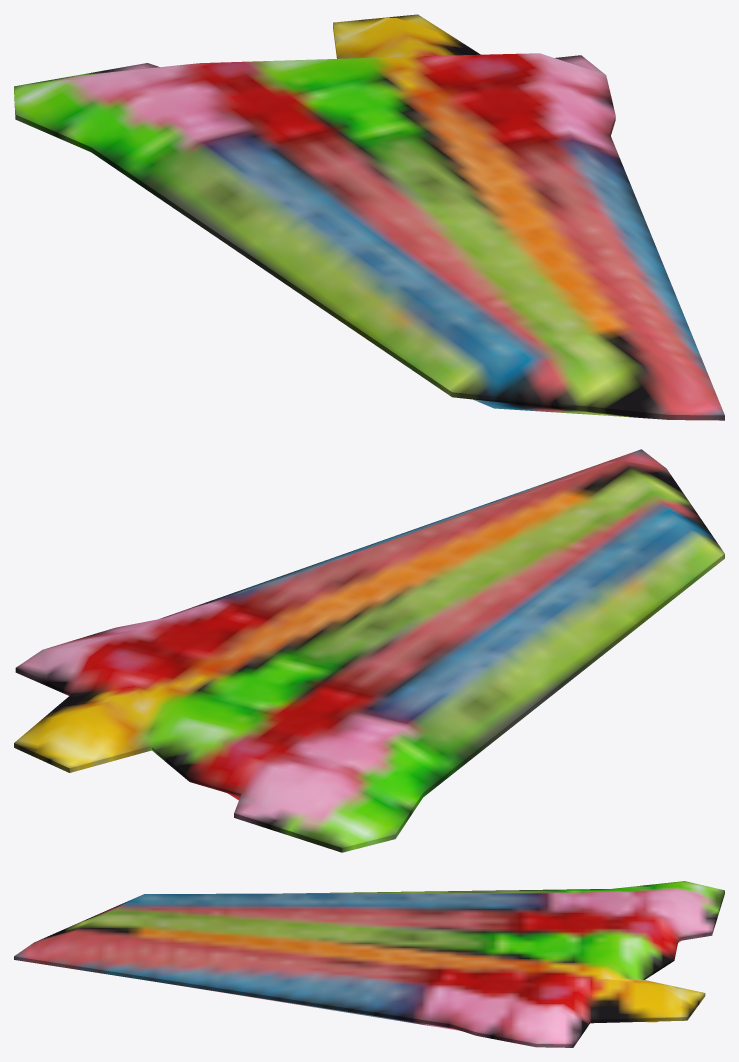
File: dagasi10a.fbx
3 renders of one model, top to bottom at view 1: azimuth 30°, elevation 25°; view 2: azimuth 150°, elevation 25°; view 3: azimuth 270°, elevation 25°, orthographic. The views are drawn at different scales.
Parts seen in each view (by area): view 1: dagasi10a; view 2: dagasi10a; view 3: dagasi10a.
Boxes of the visible parts, x1,y1,x2,y2 form: dagasi10a: (14,14,724,420); dagasi10a: (14,449,724,852); dagasi10a: (14,881,724,1047).
Size of the model in its own units: 21.11 by 2.18 by 38.81.
